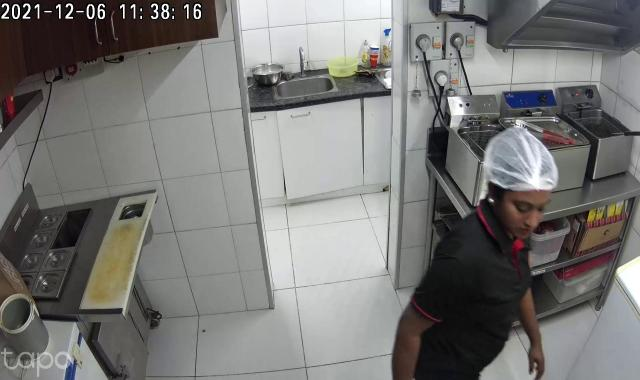hairnet: (484, 120, 560, 193)
